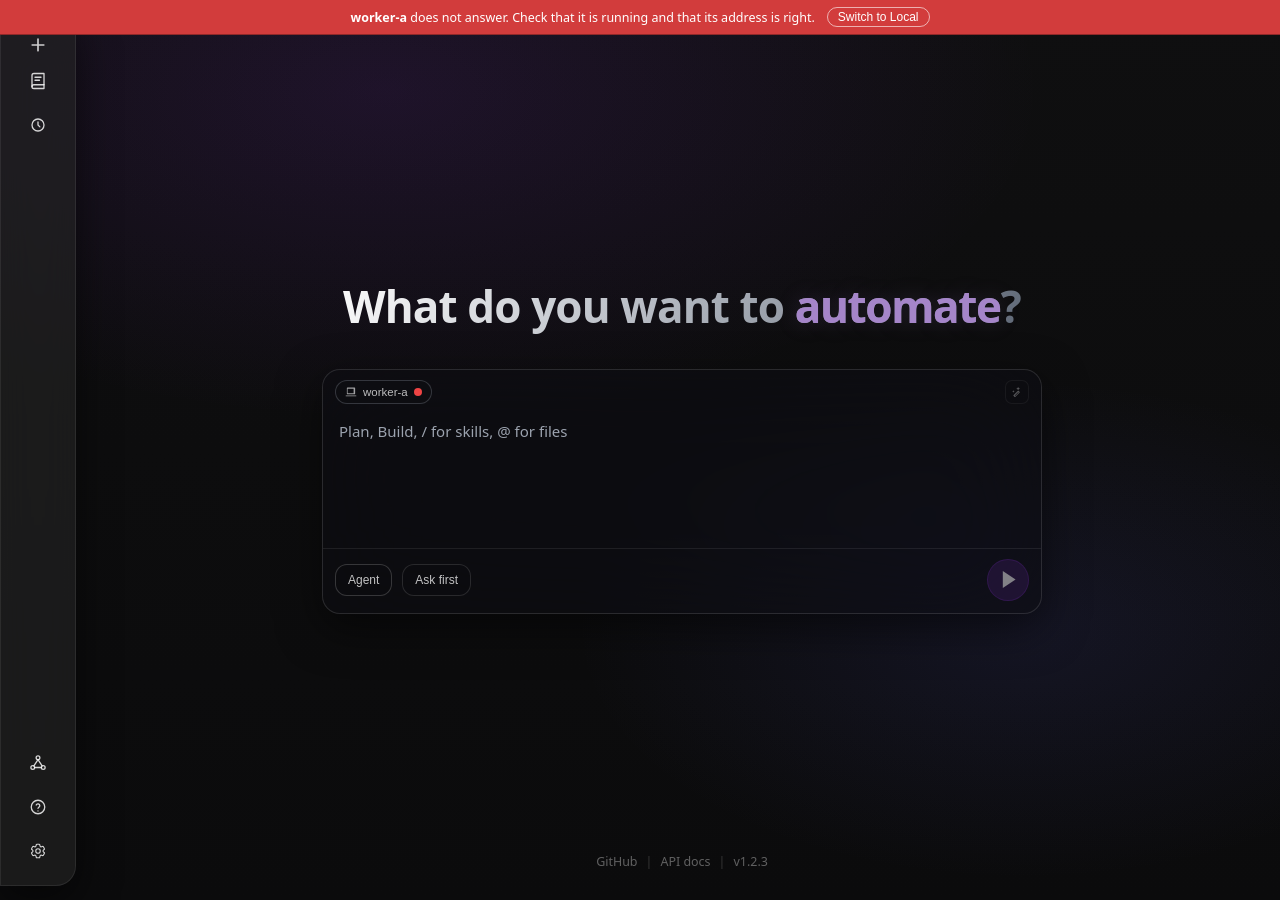
Scenario: History opened from the rail over the map takes its place
Click the link with test id "nav-swarm" at (38, 763), box x1=29 y1=754 x2=47 y2=772
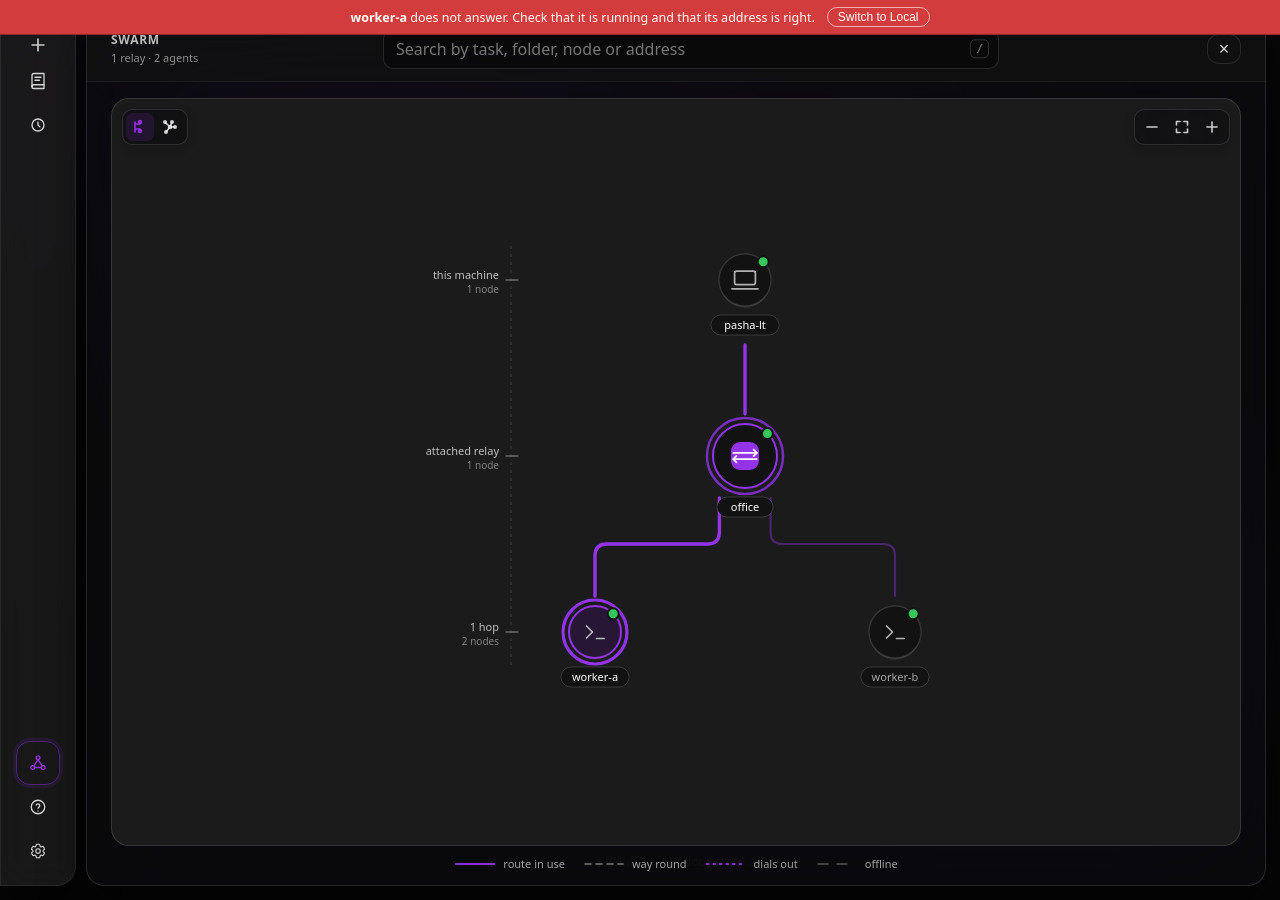
Expected: the element with test id "swarm-view" is shown
Click the link with test id "nav-history" at (38, 81), box x1=29 y1=72 x2=47 y2=90
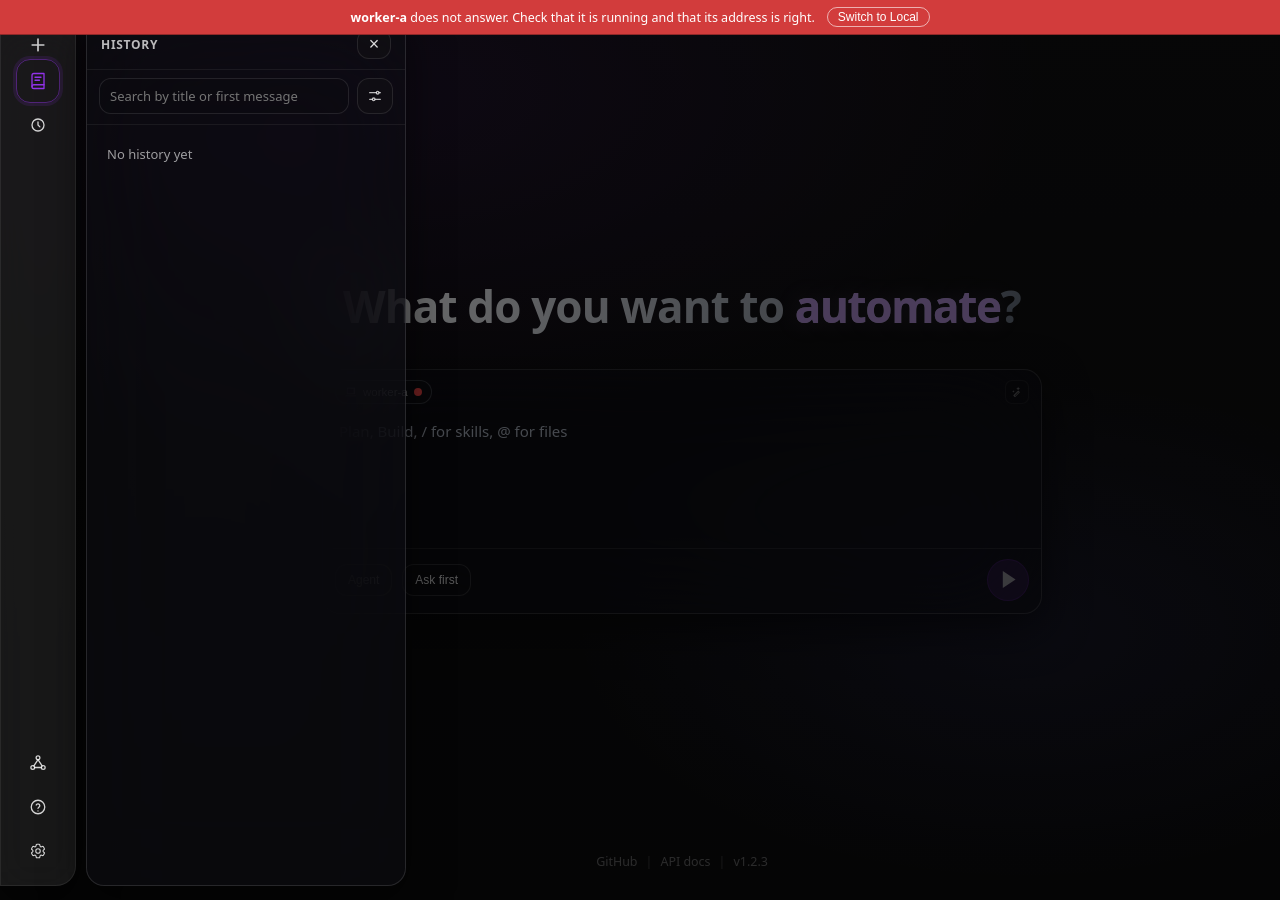
Expected: the element with test id "swarm-view" is gone
